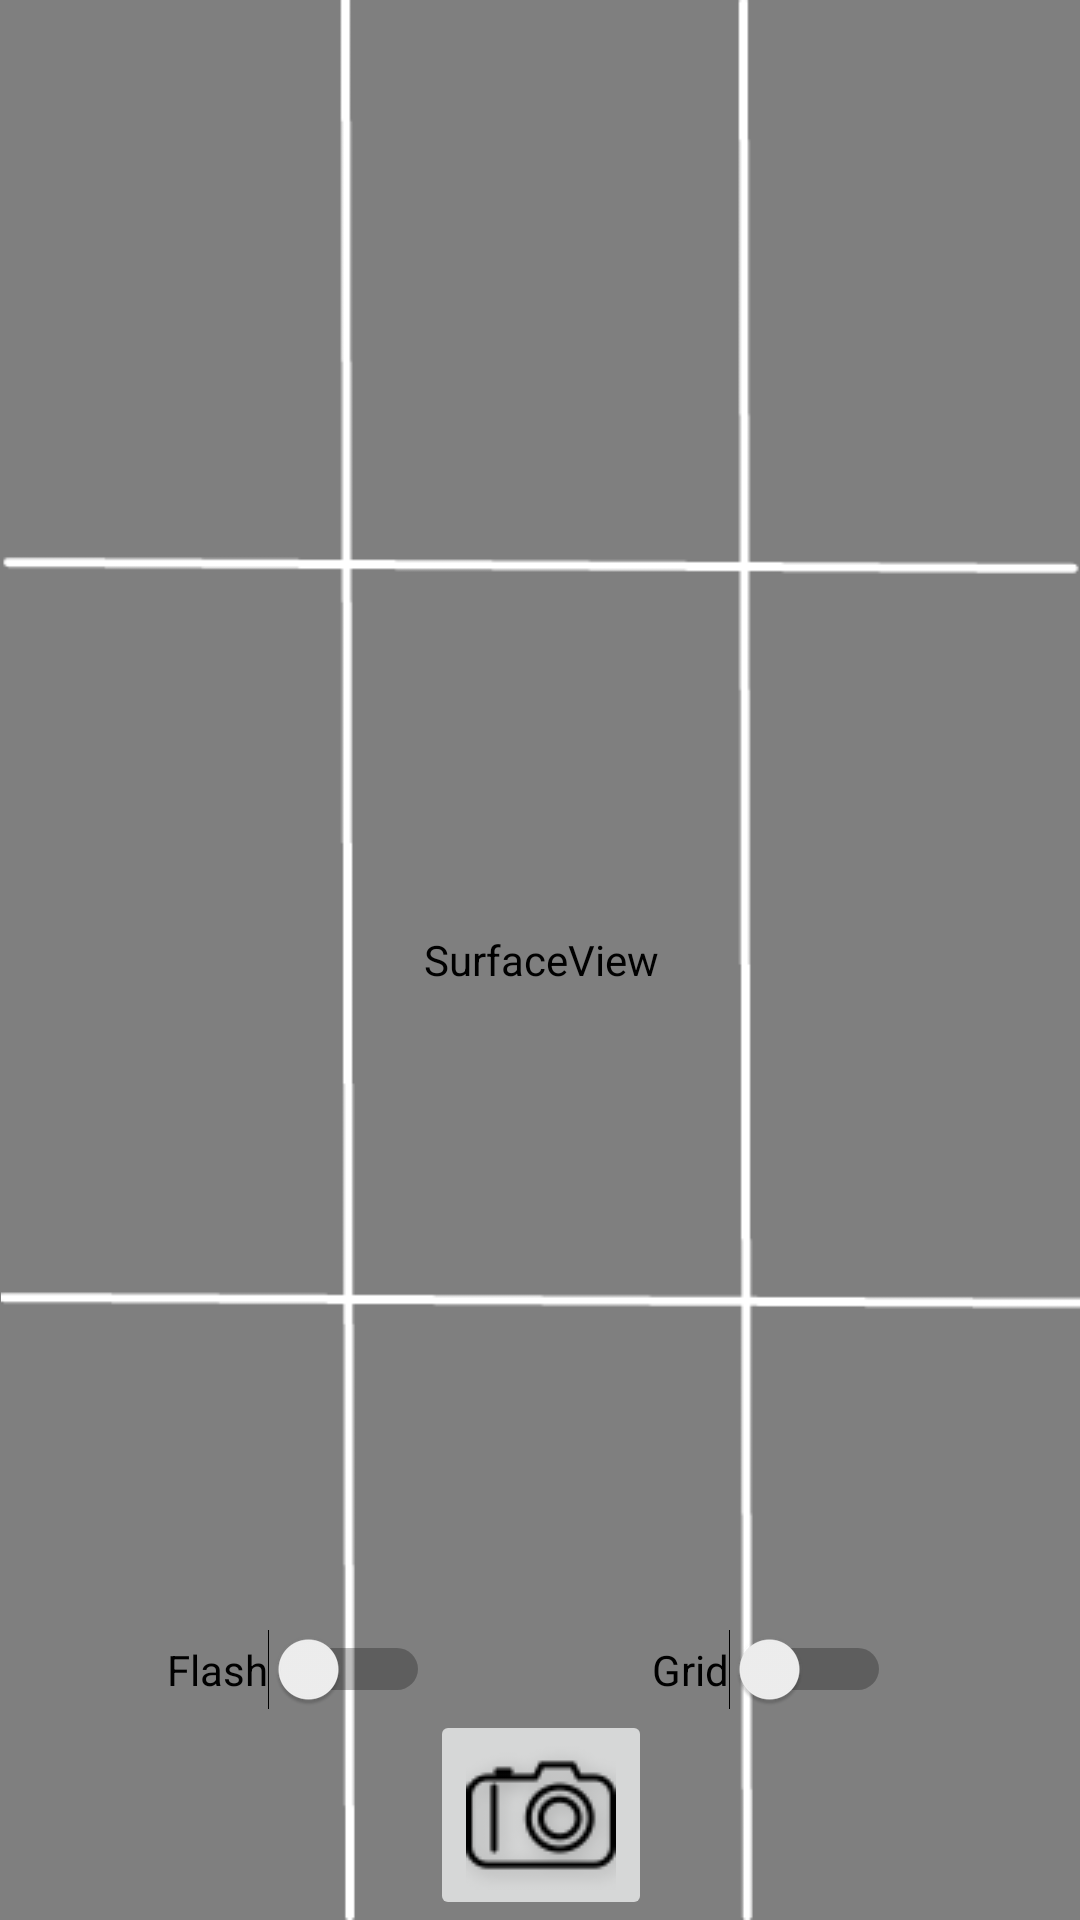

Where to tap for icons on this 1080px x 1920px app screen, as [x,y]:
camera: [541,1815]
